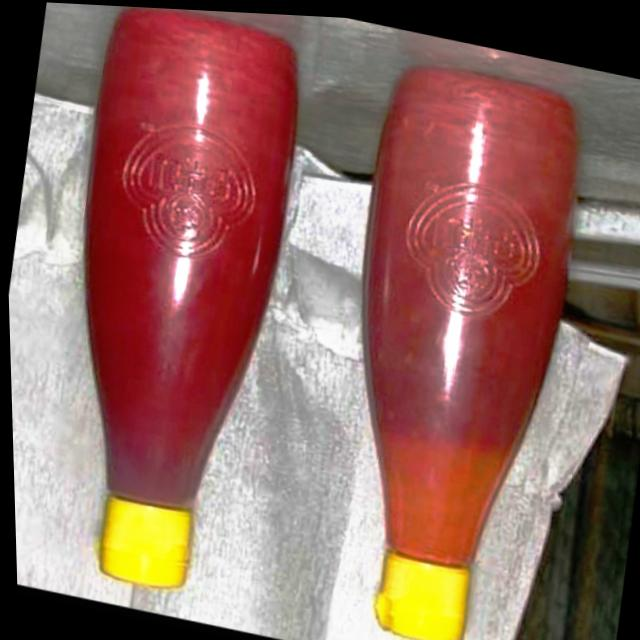ketchup: (9, 0, 331, 618), (297, 43, 613, 640)
